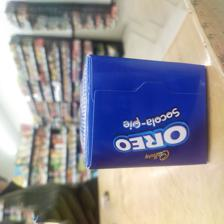Oreo: (77, 54, 211, 173)
